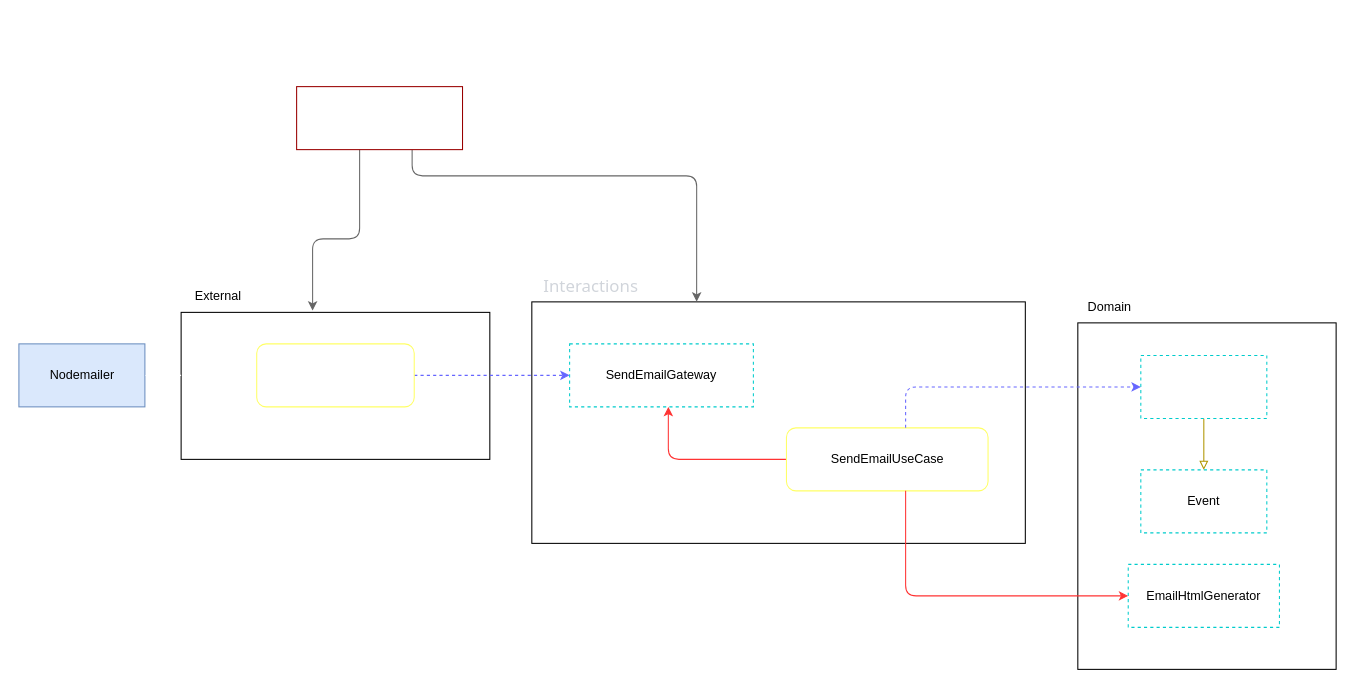
The diagram is 1354 pixels wide and 688 high, and some of its shapes have lost their labels. The shapes that lost their labels are listed below. From the top down, each one's box as (x1, y1, x2, y2) in pixels, then its label:
(296, 86, 463, 150): SendEmailFactory
(256, 343, 414, 407): NodemailerAdapter
(1140, 354, 1267, 418): SendEmail
